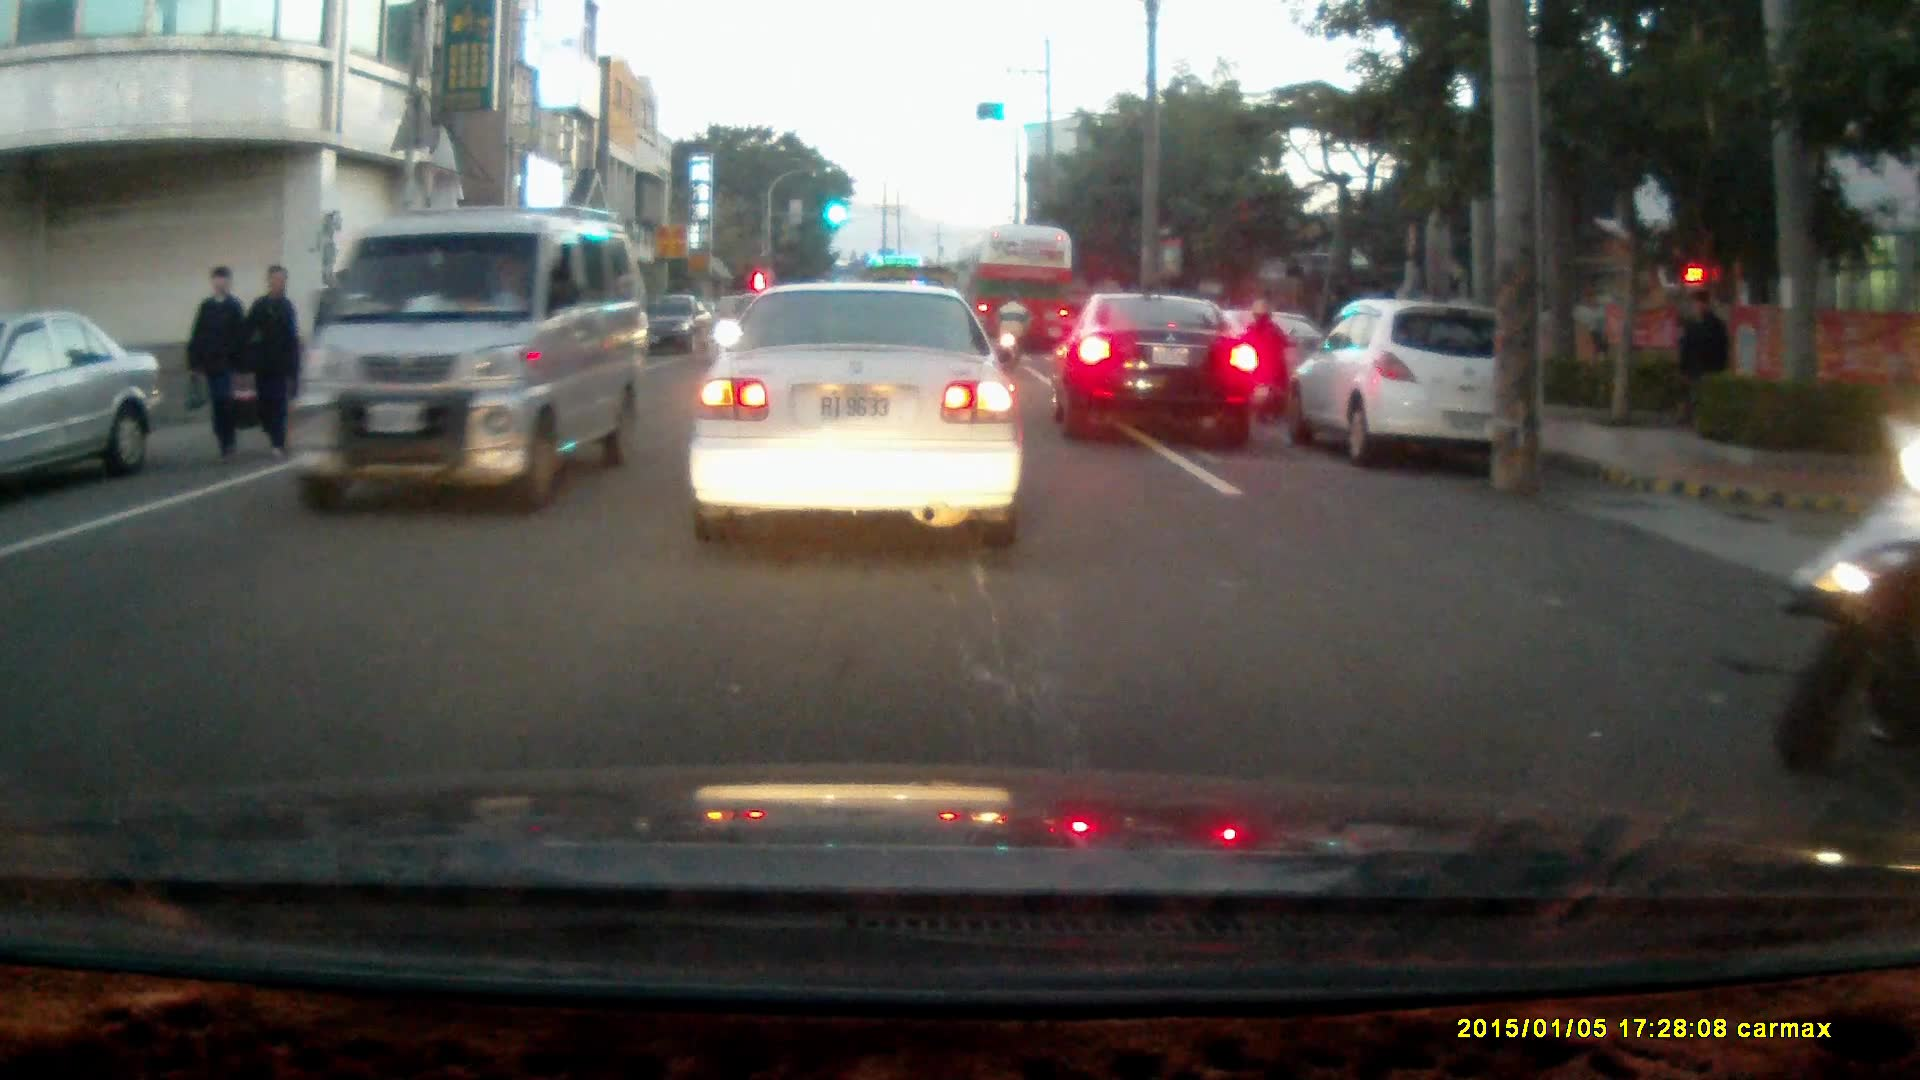pedestrian: (181, 266, 249, 467), (237, 260, 302, 451), (1677, 287, 1733, 438)
rider: (1771, 400, 1920, 776), (1243, 298, 1297, 426), (995, 292, 1032, 370)
vehicle: (284, 204, 647, 516), (688, 282, 1029, 550), (1281, 296, 1542, 475), (1053, 294, 1266, 451), (1, 309, 160, 501), (969, 223, 1077, 362)
